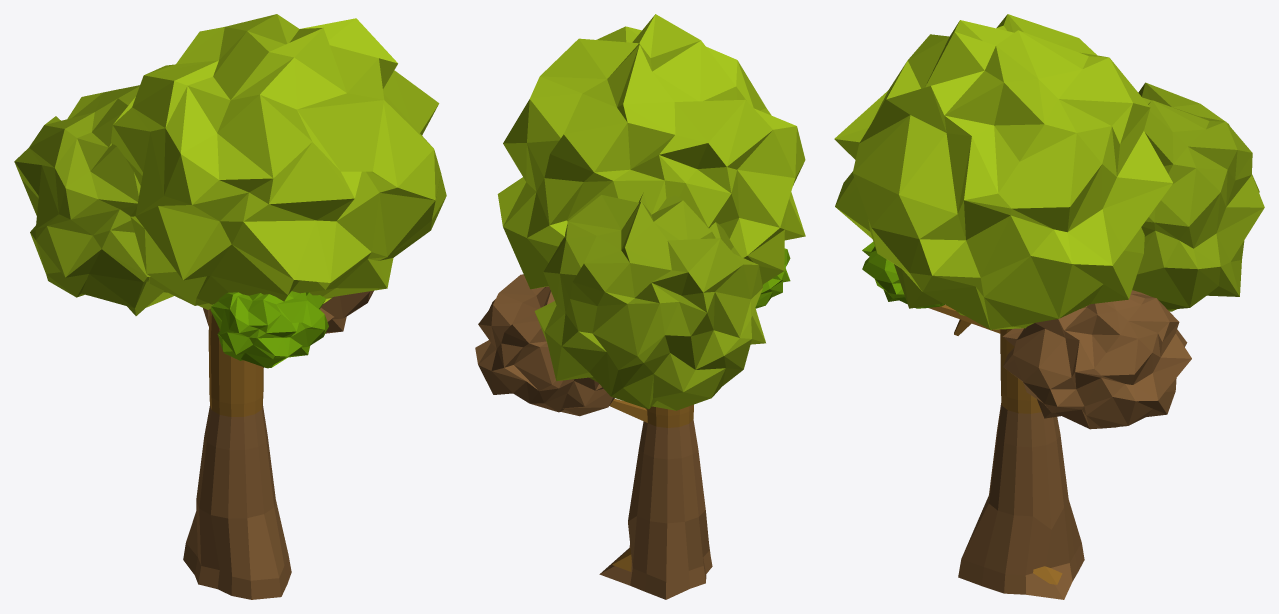
File: Arbol_2.glb
3 views of the same model, side by side, from view 1: azimuth 30°, elevation 25°; view 2: azimuth 150°, elevation 25°; view 3: azimuth 270°, elevation 25° (orthographic). The views are drawn at different scales.
Visible parts, largest first — view 1: Icosphere, Icosphere.003, Cylinder.002, Icosphere.002, Cylinder.001, Icosphere.001; view 2: Icosphere, Icosphere.003, Cylinder.002, Icosphere.001, Cylinder.001, Icosphere.002; view 3: Icosphere, Icosphere.003, Icosphere.001, Cylinder.002, Cylinder.001, Icosphere.002.
Boxes of the visible parts, left/top/right/bottom form: Icosphere: left=111, top=14, right=446, bottom=309; Icosphere.003: left=14, top=85, right=173, bottom=315; Cylinder.002: left=183, top=405, right=291, bottom=599; Icosphere.002: left=210, top=291, right=328, bottom=368; Cylinder.001: left=208, top=309, right=263, bottom=416; Icosphere.001: left=203, top=290, right=373, bottom=333; Icosphere: left=497, top=14, right=805, bottom=289; Icosphere.003: left=534, top=193, right=765, bottom=410; Cylinder.002: left=599, top=419, right=712, bottom=599; Icosphere.001: left=475, top=274, right=614, bottom=416; Cylinder.001: left=609, top=398, right=693, bottom=571; Icosphere.002: left=755, top=248, right=790, bottom=308; Icosphere: left=834, top=14, right=1172, bottom=329; Icosphere.003: left=1132, top=82, right=1264, bottom=311; Icosphere.001: left=1002, top=290, right=1191, bottom=429; Cylinder.002: left=958, top=403, right=1084, bottom=599; Cylinder.001: left=929, top=305, right=1062, bottom=584; Icosphere.002: left=862, top=241, right=944, bottom=308.
Bounding box in the file's own units: 6.87 × 11.65 × 8.04.
